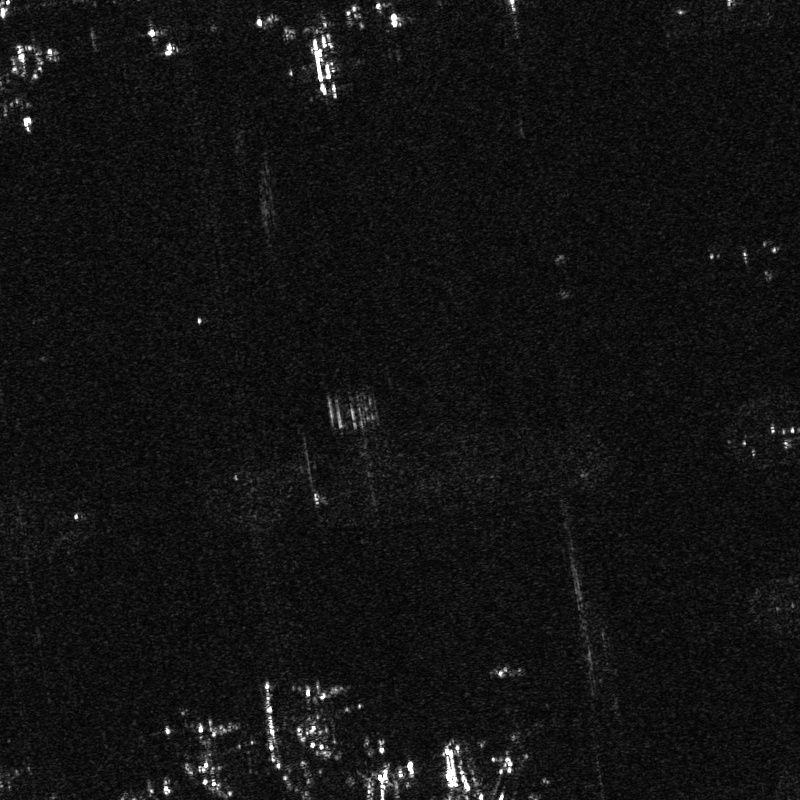A220: (179, 701, 241, 757), (286, 667, 345, 716)
Boeing737: (286, 24, 366, 108)
